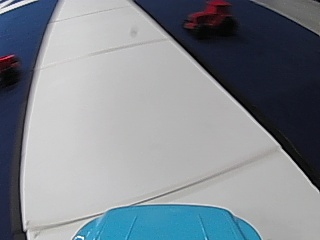tractor: (181, 1, 232, 40)
